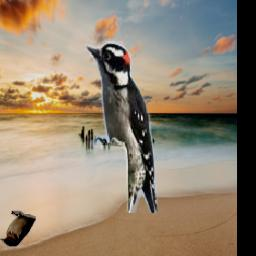Swallow: (0, 212, 36, 247)
Woodpecker: (84, 41, 158, 213)
